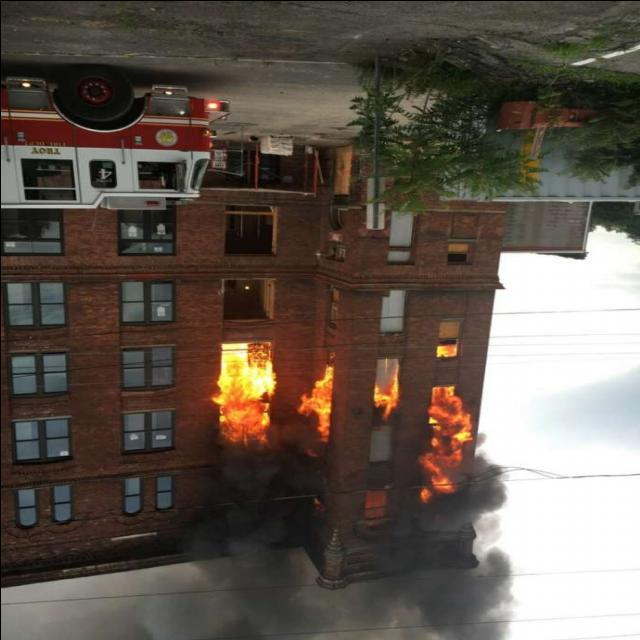Fire: (190, 324, 485, 532)
